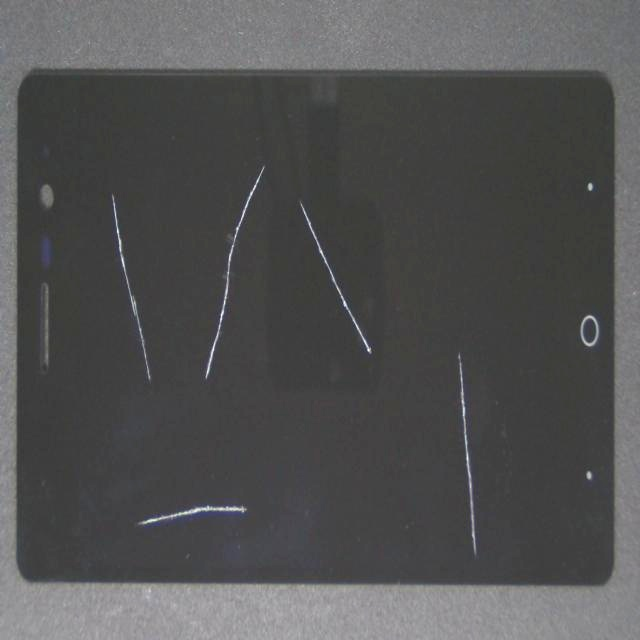scratch: (108, 21, 468, 386)
